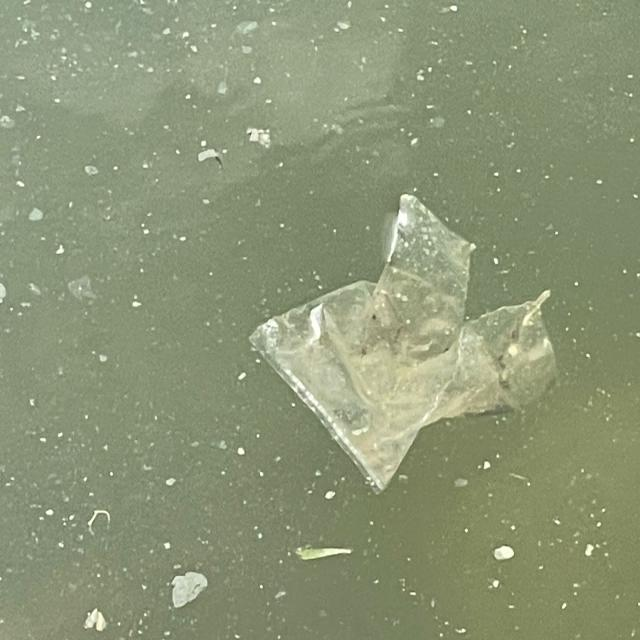Kantong Plastik: (249, 188, 556, 494)
